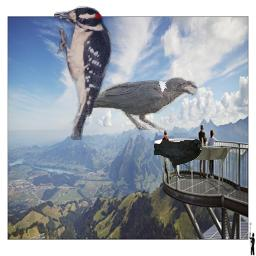Crow: (79, 76, 198, 131), (154, 139, 202, 179)
Woodpecker: (54, 4, 114, 140)
